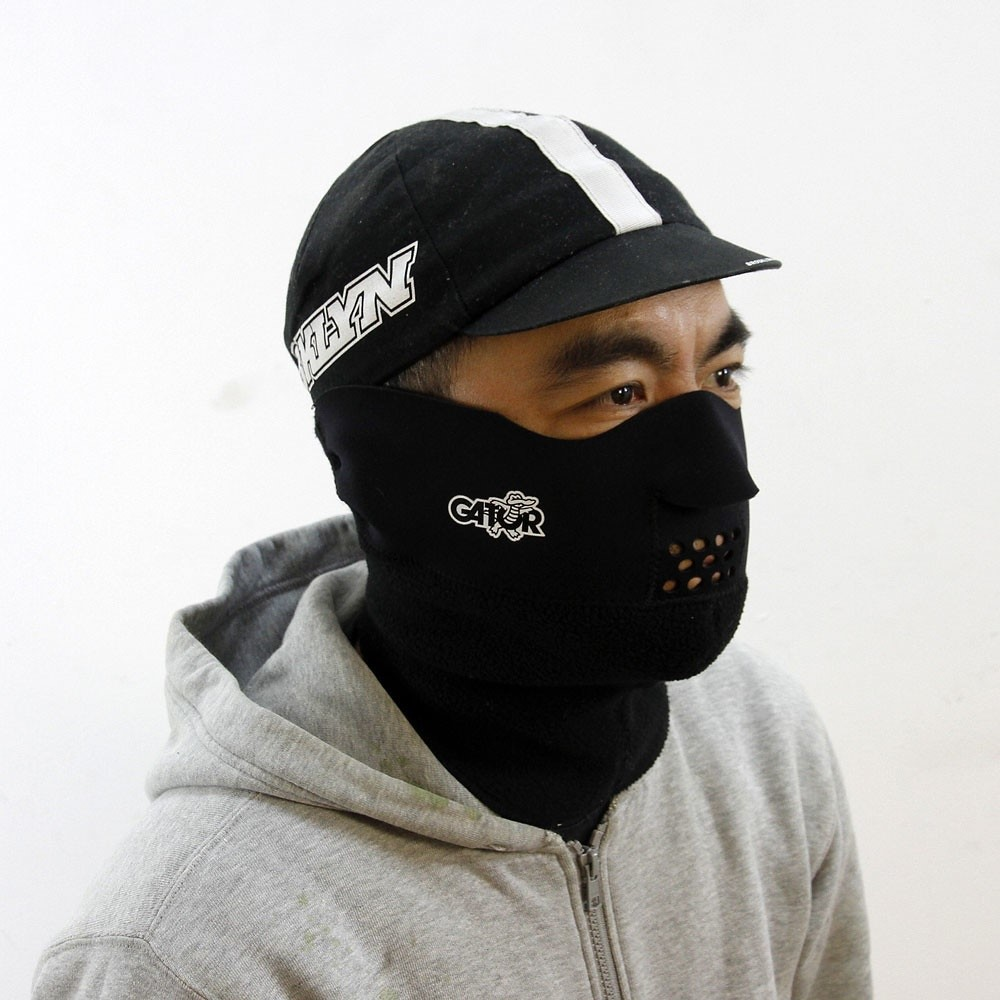face_with_mask: (296, 134, 765, 693)
